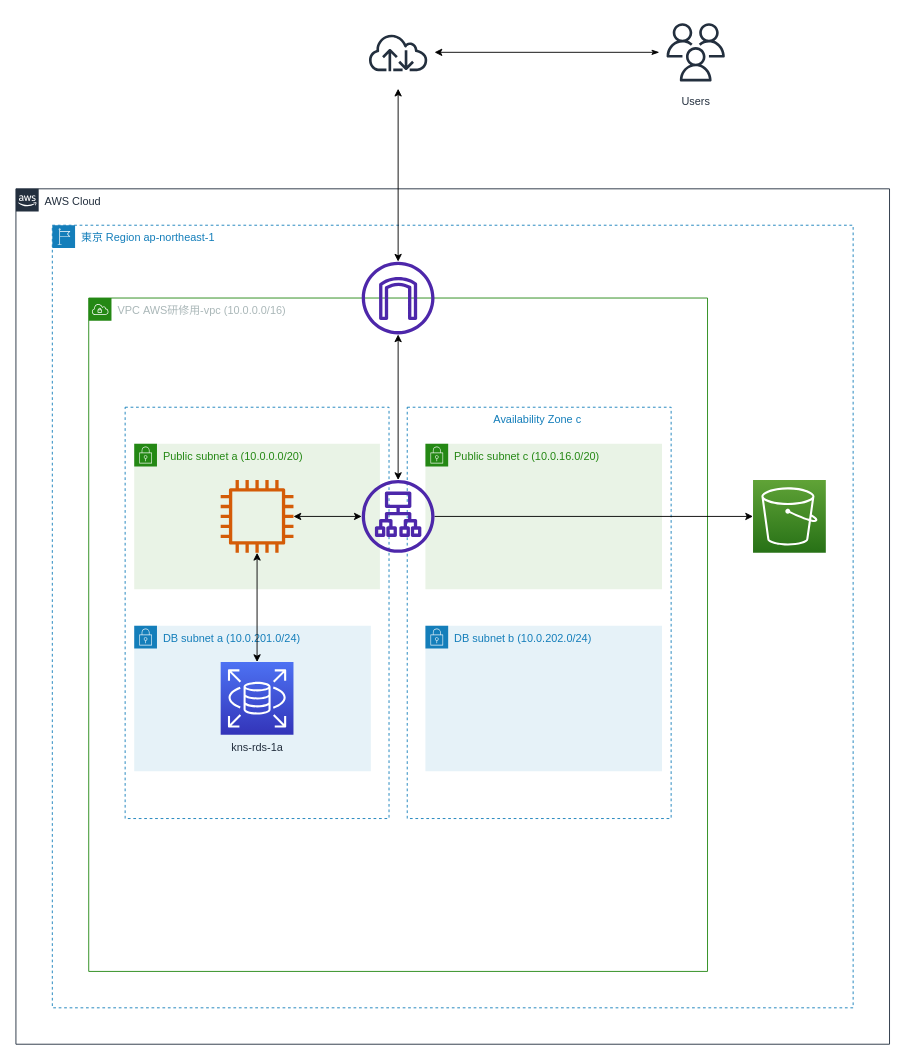
This 905x1060 diagram has some shape labels left out. The box of each missing label's shape, as (x1, y1, x2, y2) in pixels:
Availability Zone a: (124, 406, 389, 819)
Internet: (361, 15, 435, 89)
kns-AWS-EC2-001: (220, 480, 293, 552)
kns-EC2-ALB: (361, 480, 434, 552)
kns-s3-001: (752, 479, 826, 553)
